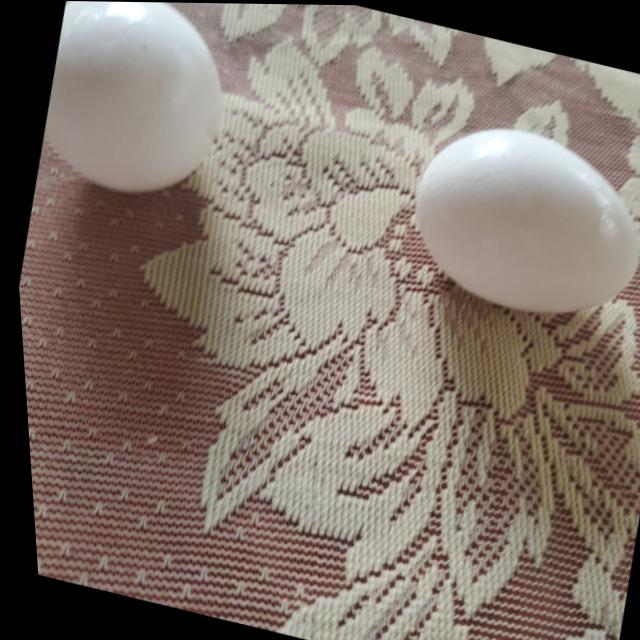egg: (388, 101, 640, 326), (27, 0, 246, 210)
